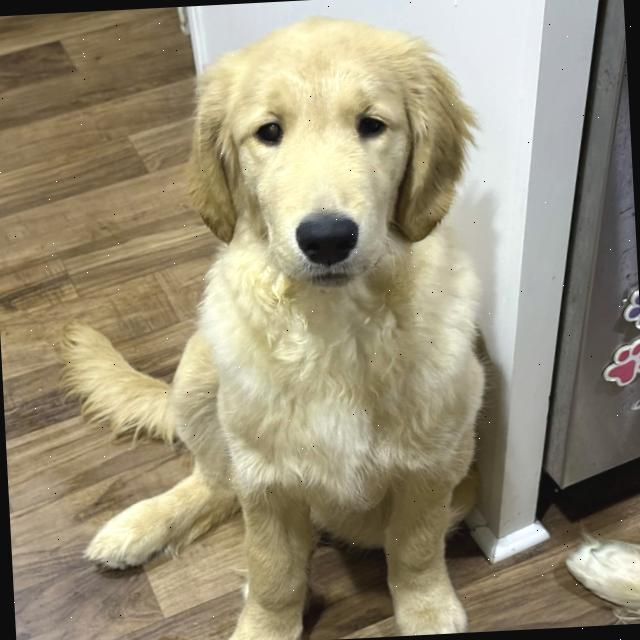golden_retriever_dog: (165, 0, 499, 312)
